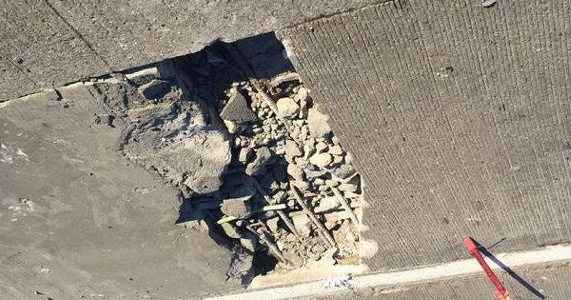pothole: (143, 27, 375, 293)
